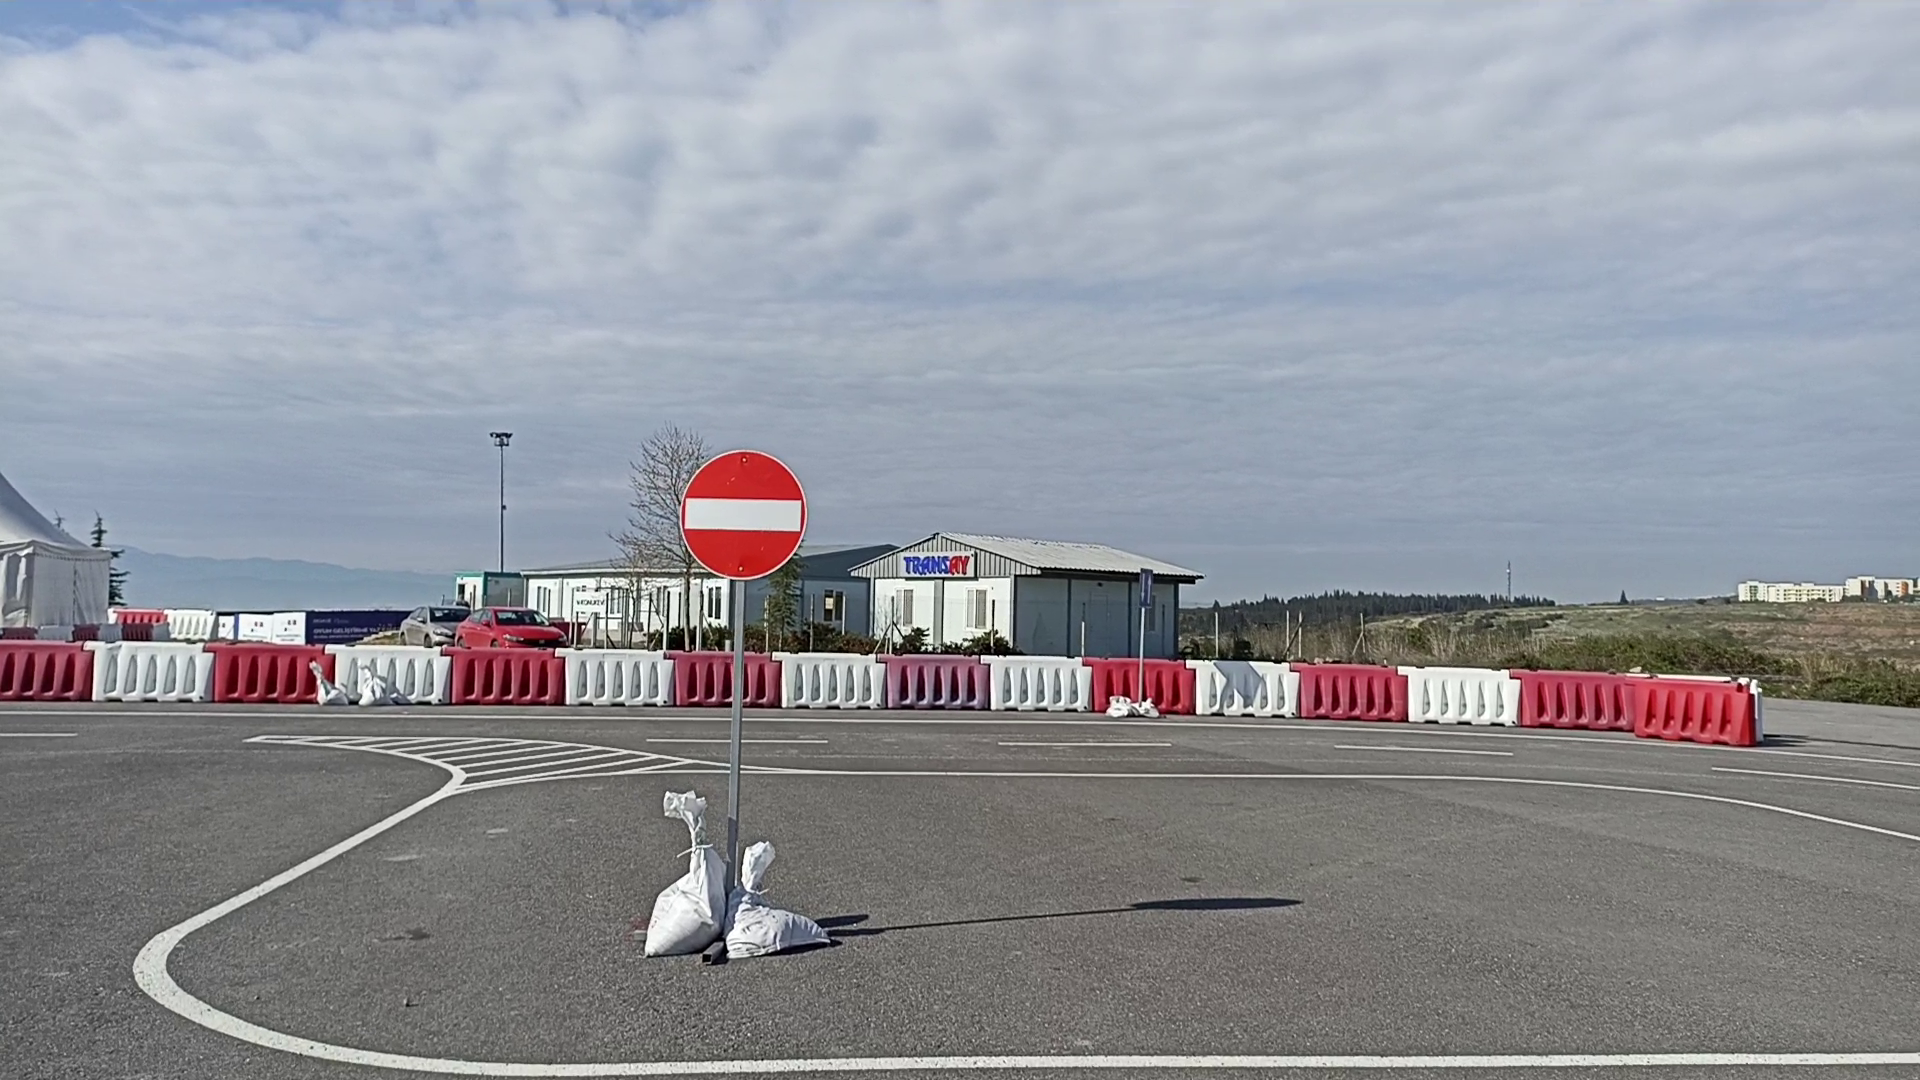noentryway: (676, 446, 808, 582)
